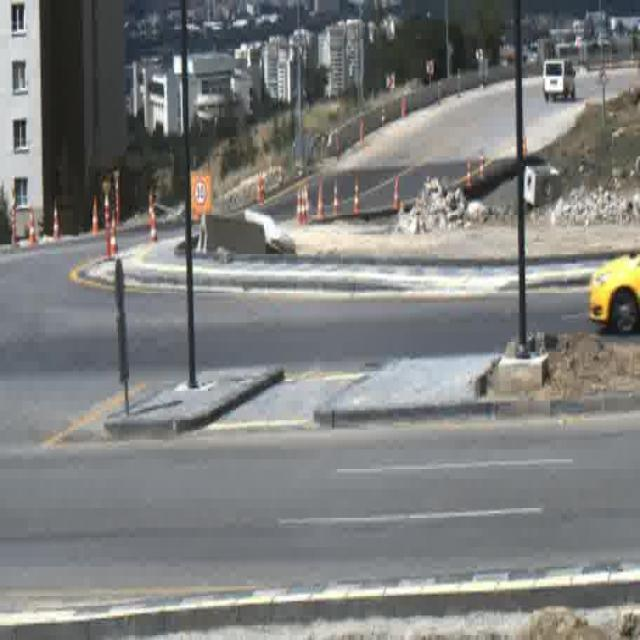Car: (586, 250, 640, 336), (542, 59, 574, 101)
